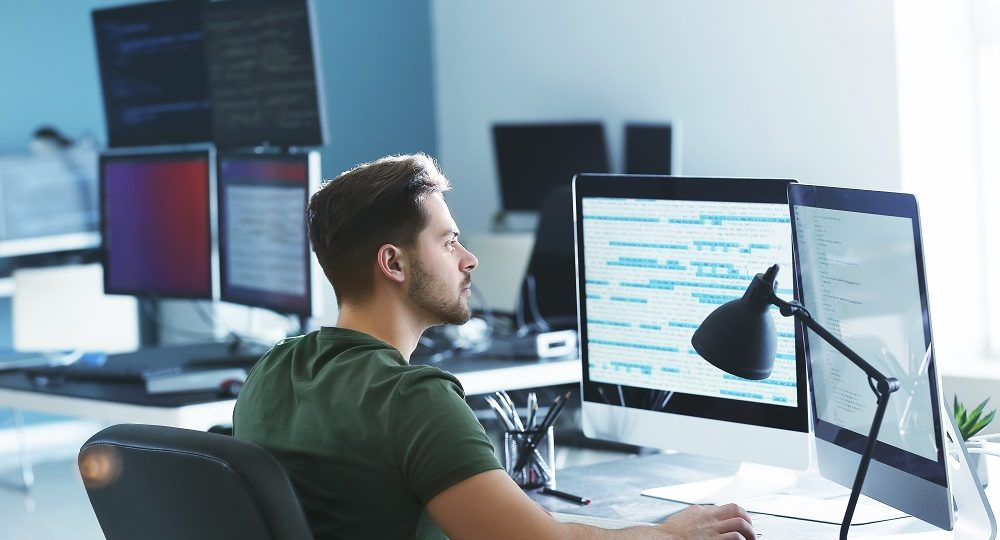without_mask: (373, 221, 483, 330)
